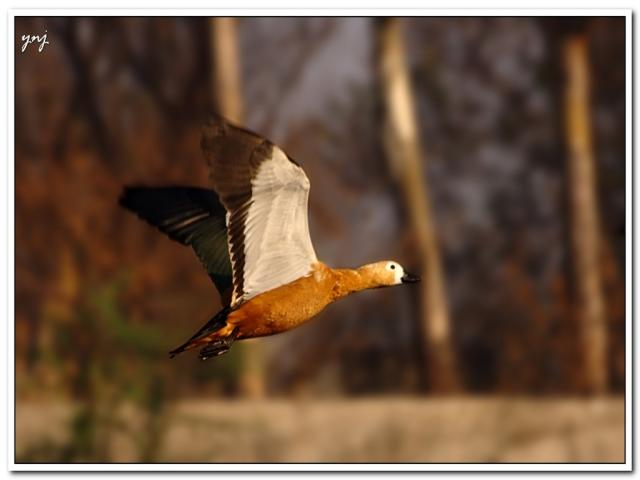Bird: (116, 103, 424, 366)
